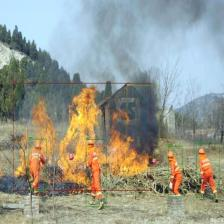fire: (13, 82, 151, 190)
smoke: (126, 85, 160, 157)
